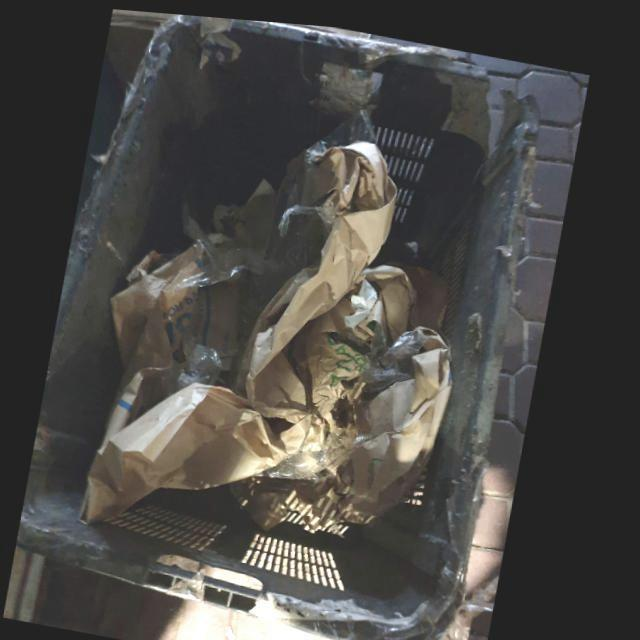paper: (242, 136, 400, 417), (263, 317, 459, 522), (86, 379, 286, 522), (272, 289, 377, 472), (363, 257, 424, 331)
